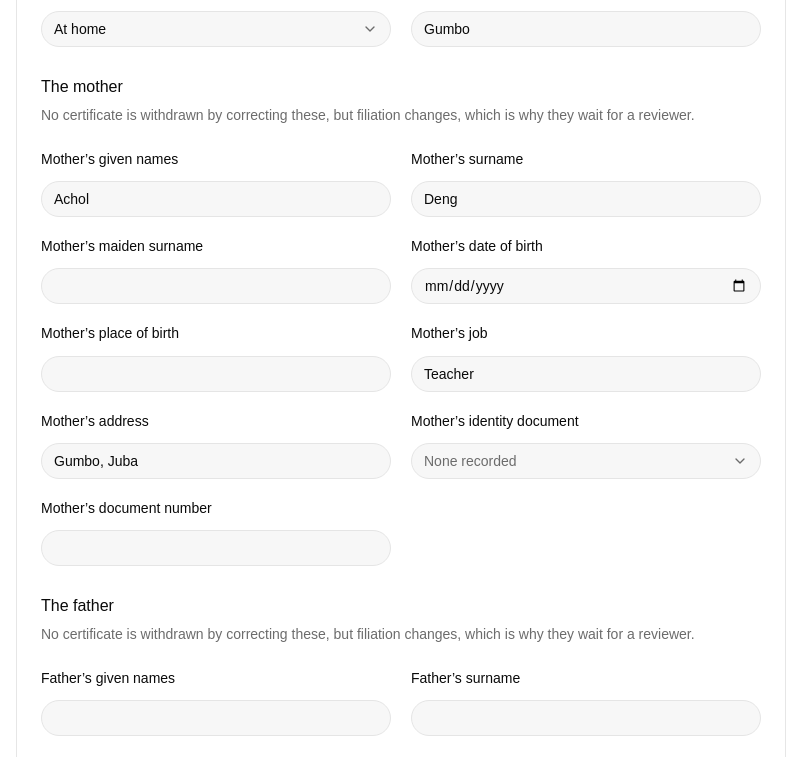
RequestCorrection — the fuller registration › says the details are corrected after review, like the names
(page scrolled)
Replace the text in the field labelled "Mother’s job" with "Nurse": (586, 374) x1=411 y1=356 x2=761 y2=392
(page scrolled)
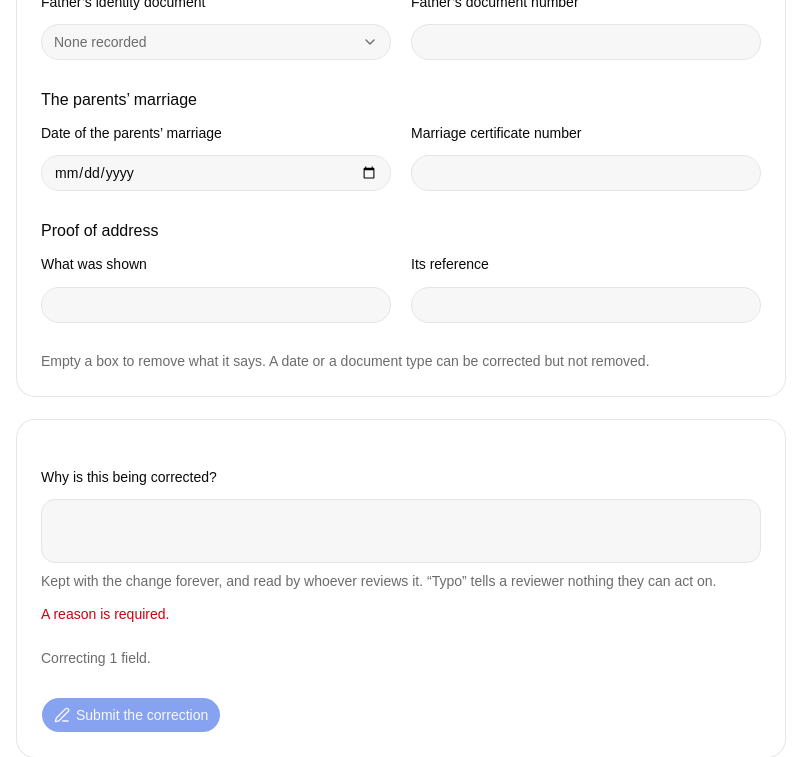
In the text box labelled "Why is this being corrected?": (401, 531) x1=41 y1=499 x2=761 y2=563, type "Corrected from the antenatal card."
(page scrolled)
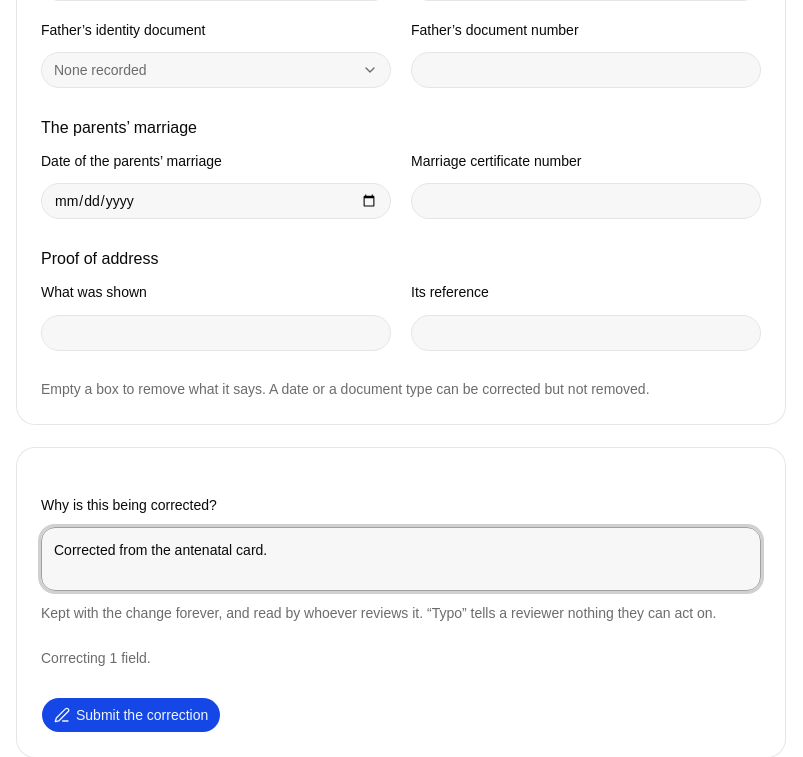
Click the button "Submit the correction": (131, 715) x1=41 y1=697 x2=221 y2=733
(page scrolled)
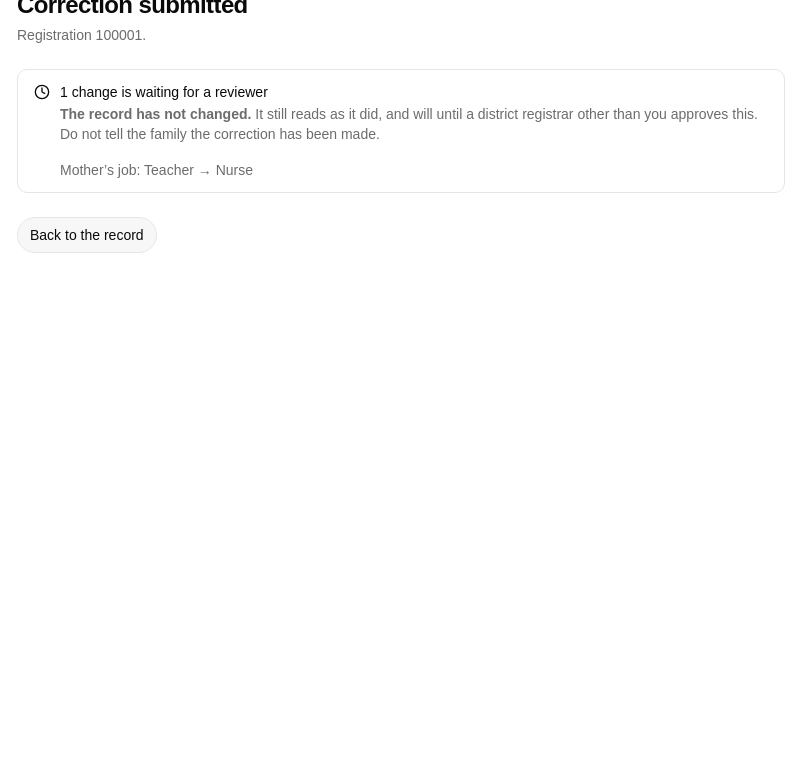
Expected: the text "Mother’s job" is shown, x1=60 y1=162 x2=136 y2=178
Result: the text "1 change is waiting for a reviewer" is shown at x1=60 y1=84 x2=268 y2=100
